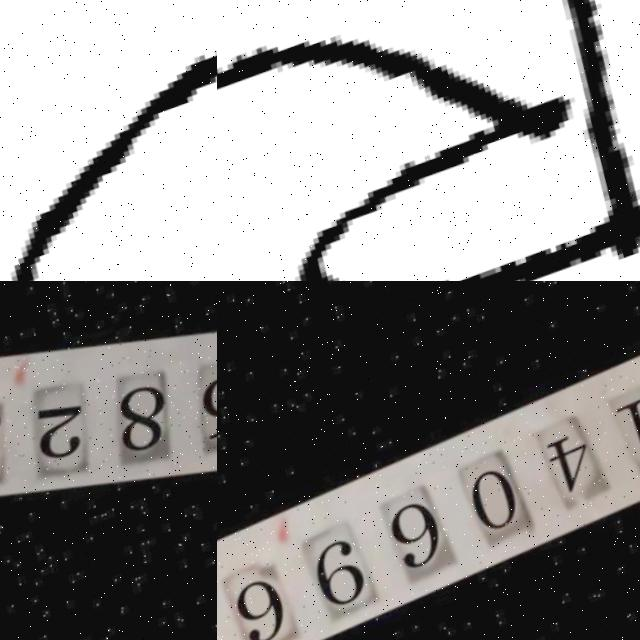0: (453, 451, 549, 564)
1: (601, 384, 640, 498)
2: (14, 379, 116, 497)
4: (532, 417, 626, 530)
5: (0, 389, 36, 509)
6: (370, 479, 475, 603), (218, 554, 320, 640), (181, 359, 217, 472)
8: (95, 363, 200, 486)
9: (294, 519, 397, 638)
O: (0, 35, 217, 281)
R: (217, 0, 640, 281)
